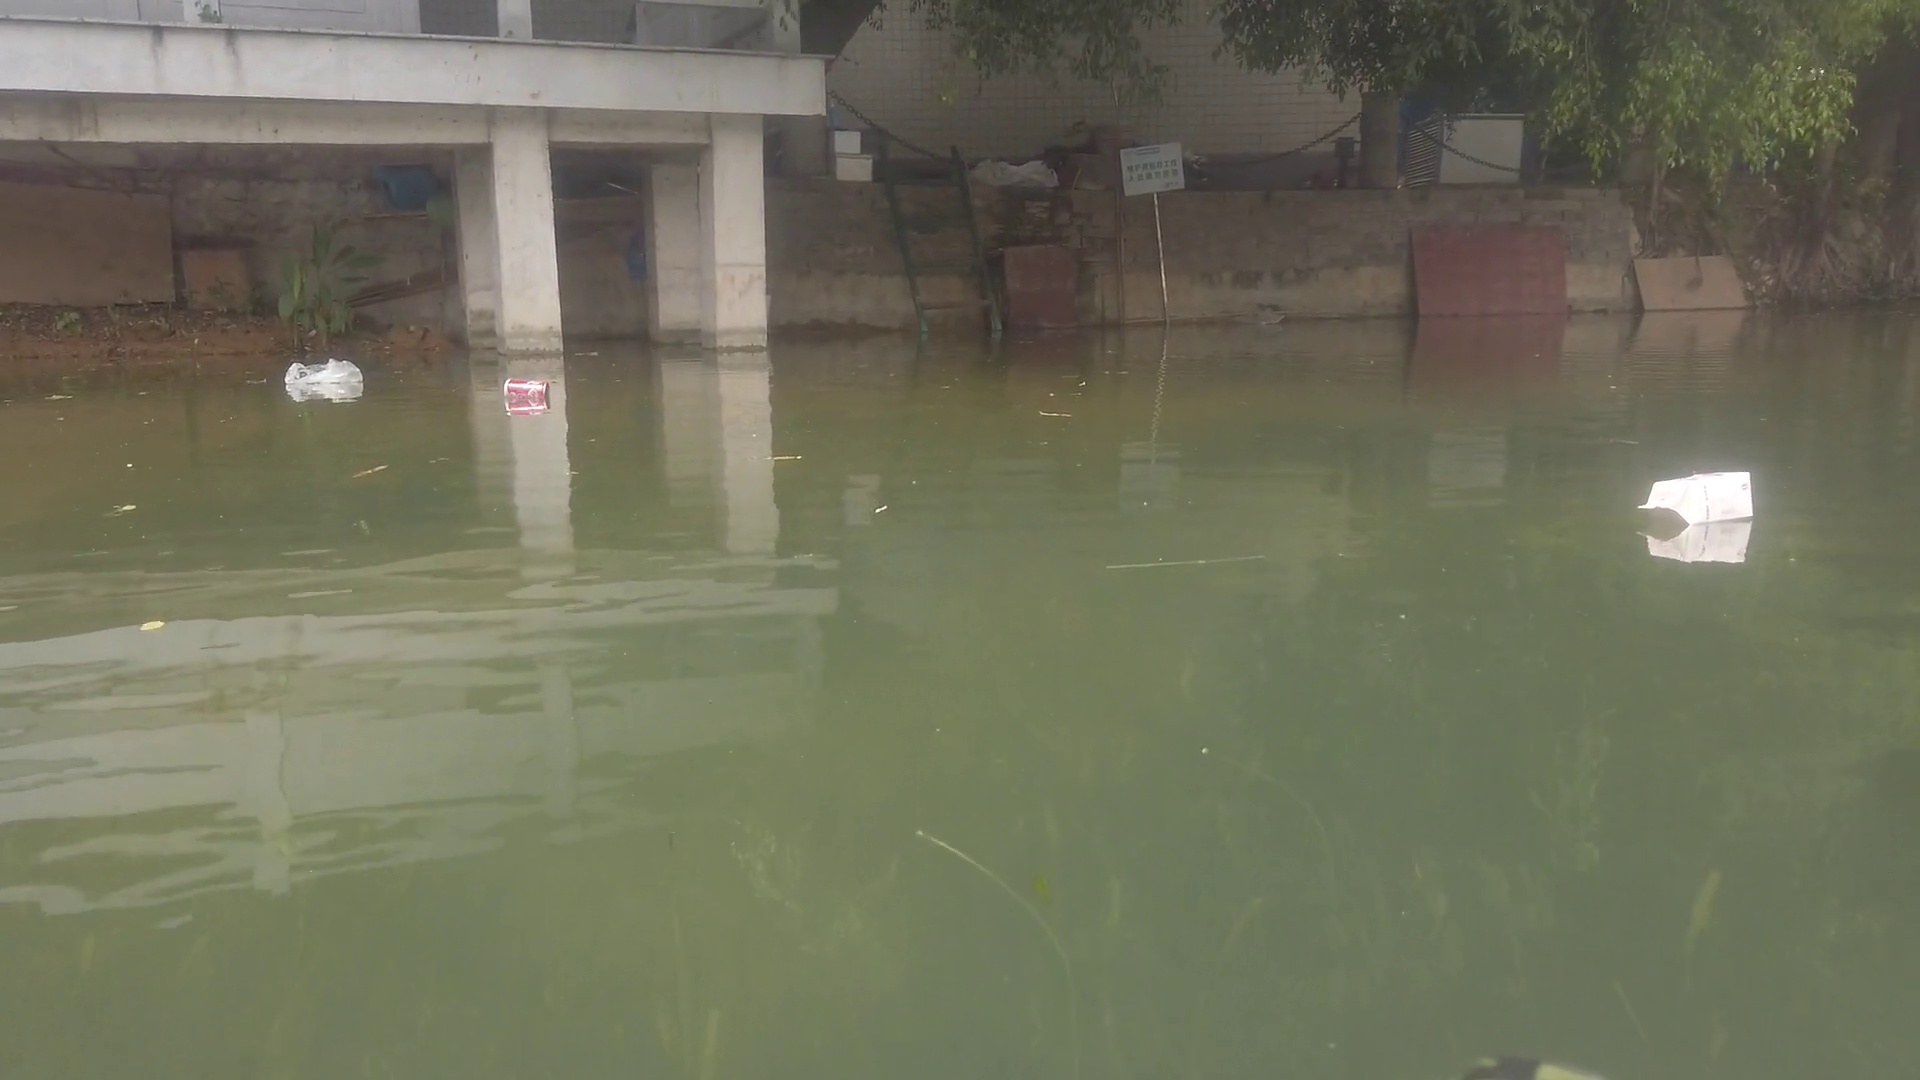bottle: (502, 375, 551, 400)
carton: (1633, 469, 1754, 521)
plastic: (284, 356, 368, 386)
